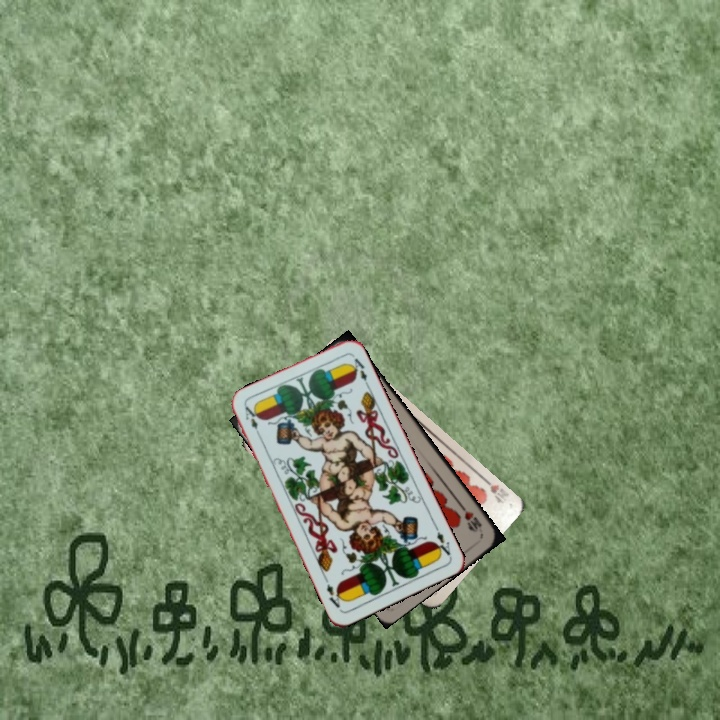EA: (430, 521, 453, 560), (241, 402, 264, 441)
H10: (478, 473, 511, 508), (456, 500, 485, 535)
